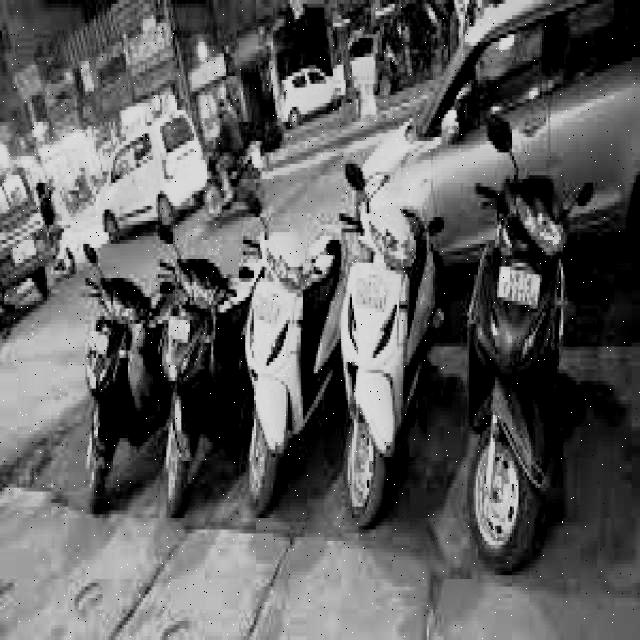Bike: (328, 131, 453, 563), (465, 121, 574, 593), (235, 136, 319, 517), (156, 202, 226, 530), (72, 233, 150, 503)
